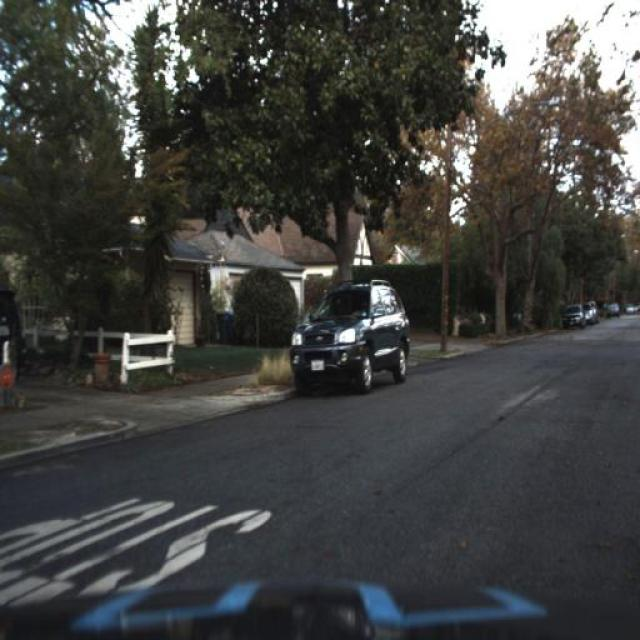car: (277, 274, 412, 404), (561, 300, 585, 336), (603, 295, 626, 323), (582, 298, 596, 328)
